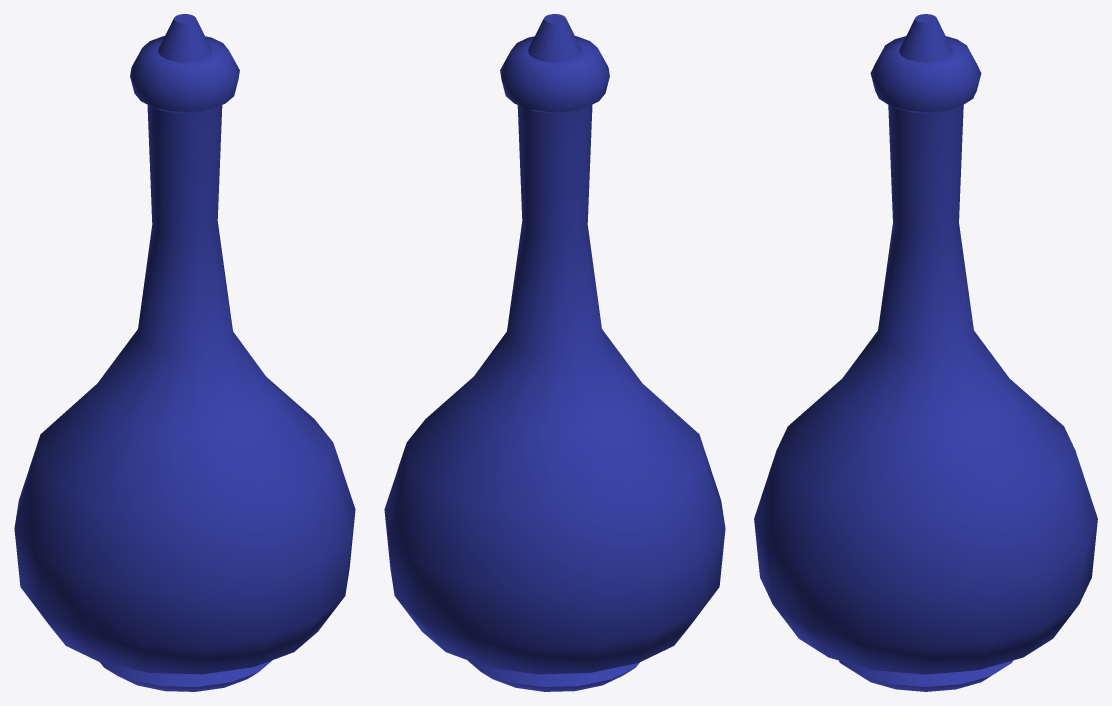
File: vaso4.fbx
The picture shows the model from 3 angles, left to right: view 1: azimuth 30°, elevation 25°; view 2: azimuth 150°, elevation 25°; view 3: azimuth 270°, elevation 25°; orthographic projection.
Parts seen in each view (by area): view 1: vaso_hunit2; view 2: vaso_hunit2; view 3: vaso_hunit2.
Part boxes in pixels (x1,y1,x2,y2): vaso_hunit2: [14, 14, 355, 691]; vaso_hunit2: [384, 14, 725, 691]; vaso_hunit2: [754, 14, 1097, 691].
Bounding box in the file's own units: 0.3268 × 0.6714 × 0.3268.
